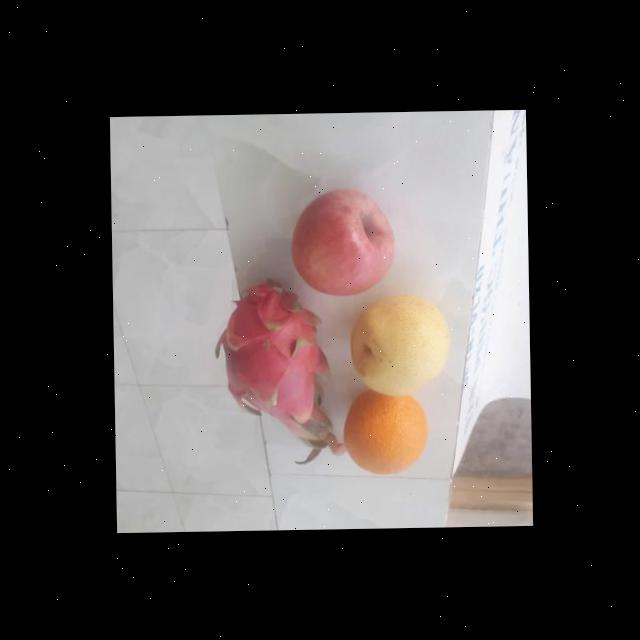apple: (287, 188, 399, 296)
orange: (338, 386, 432, 480)
pear: (348, 292, 452, 392)
pitaya: (213, 278, 334, 432)
